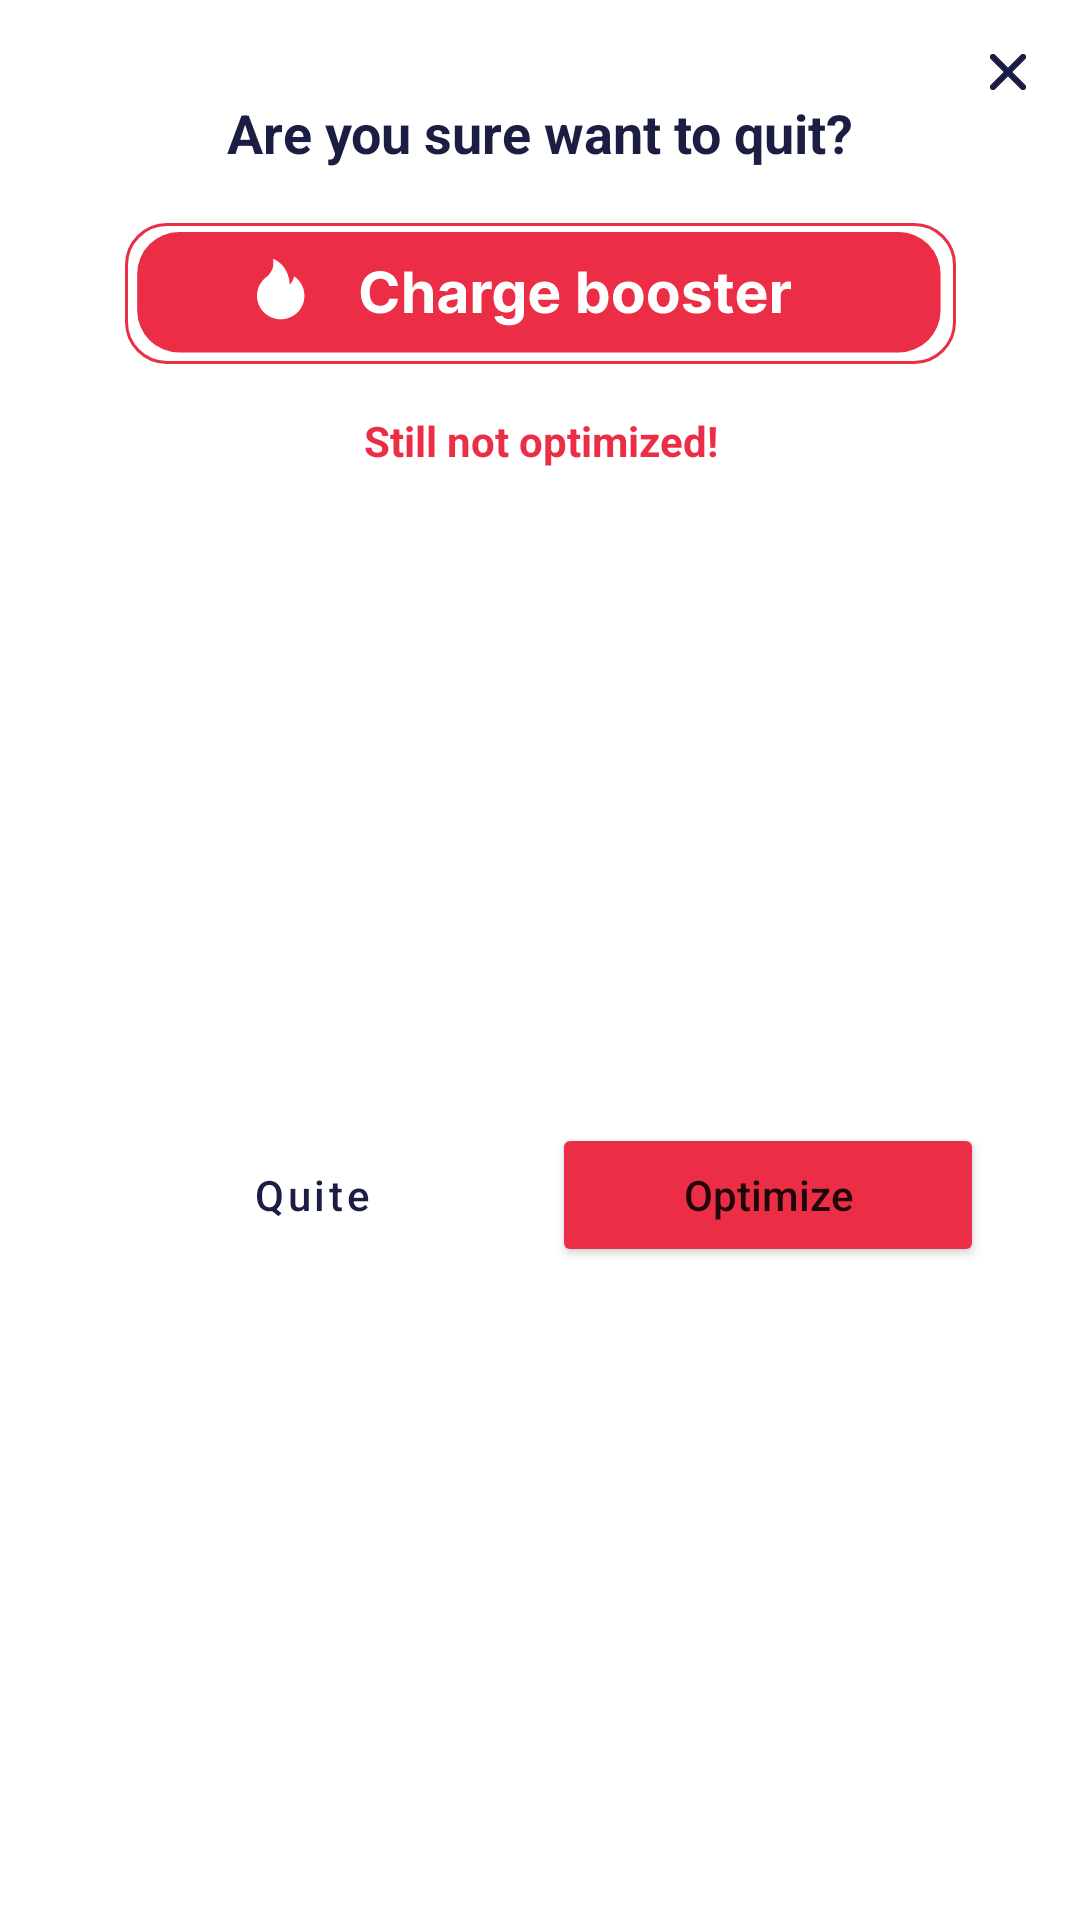

Where to tap for icons on this 1080px x 1920px app screen, as (x,y):
close: (1008,72)
